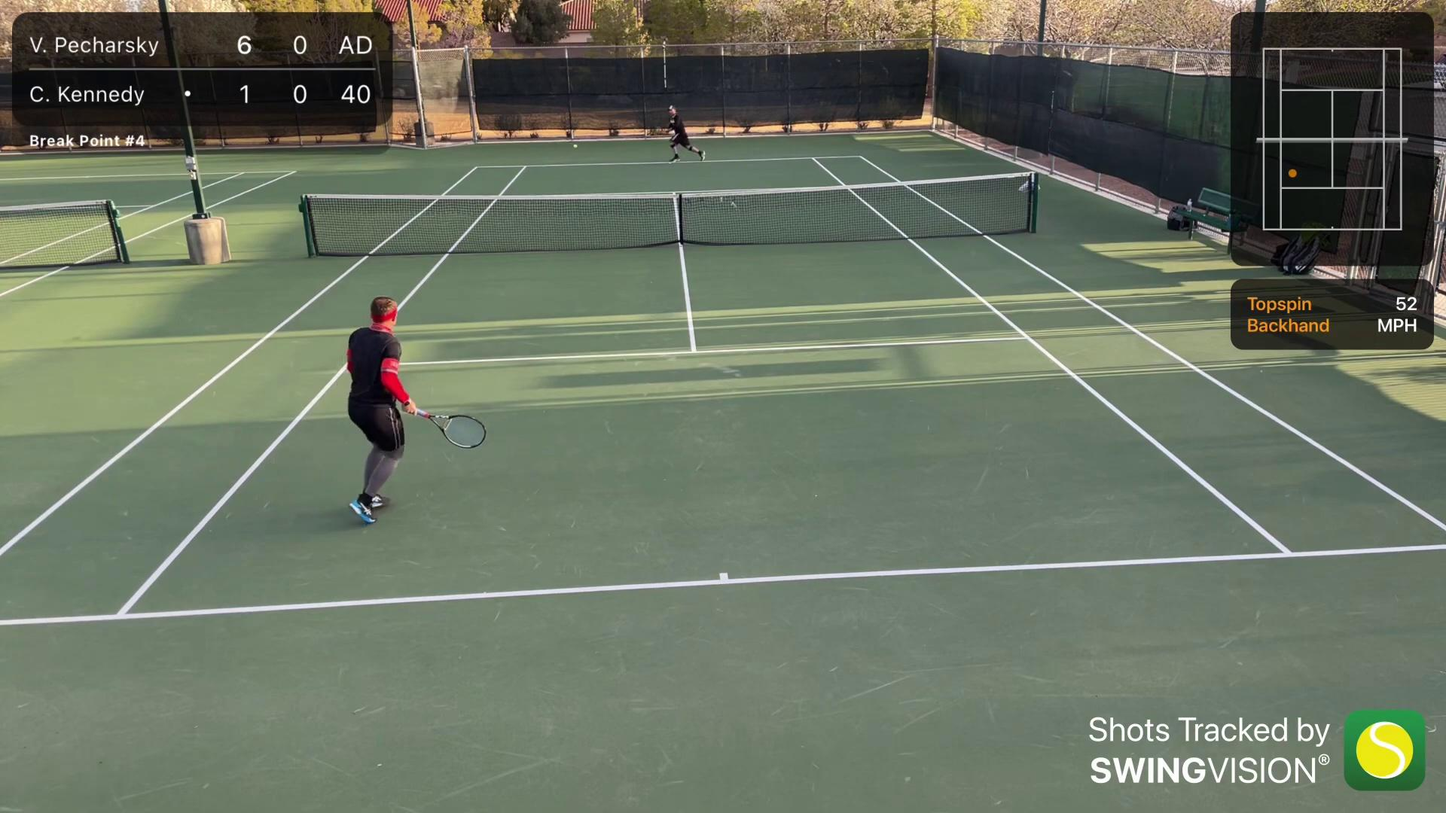ball: (572, 143, 580, 149)
